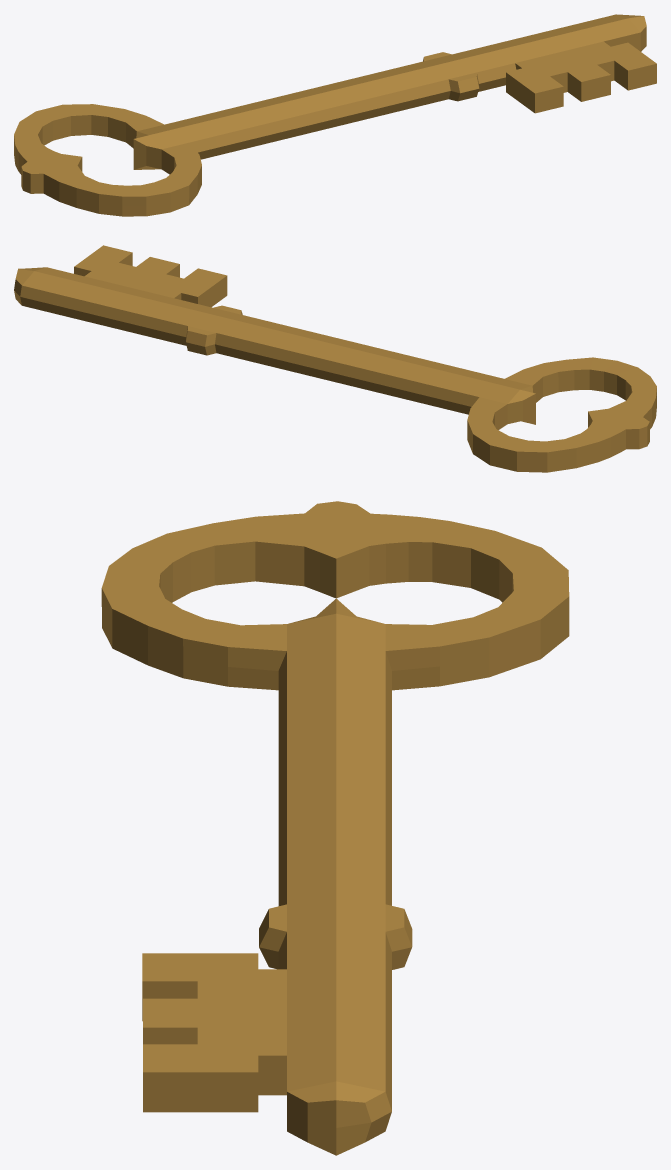
Rendered from GoldKey.fbx.
The picture shows the model from 3 angles, top to bottom: view 1: azimuth 30°, elevation 25°; view 2: azimuth 150°, elevation 25°; view 3: azimuth 270°, elevation 25°; orthographic projection. The views are drawn at different scales.
Parts seen in each view (by area): view 1: GoldKey; view 2: GoldKey; view 3: GoldKey.
Boxes of the visible parts, box(x1,y1,x2,y2) form: GoldKey: box(14, 14, 656, 216); GoldKey: box(14, 245, 656, 472); GoldKey: box(101, 501, 569, 1155).
Bounding box in the file's own units: 1455 × 69.45 × 474.
